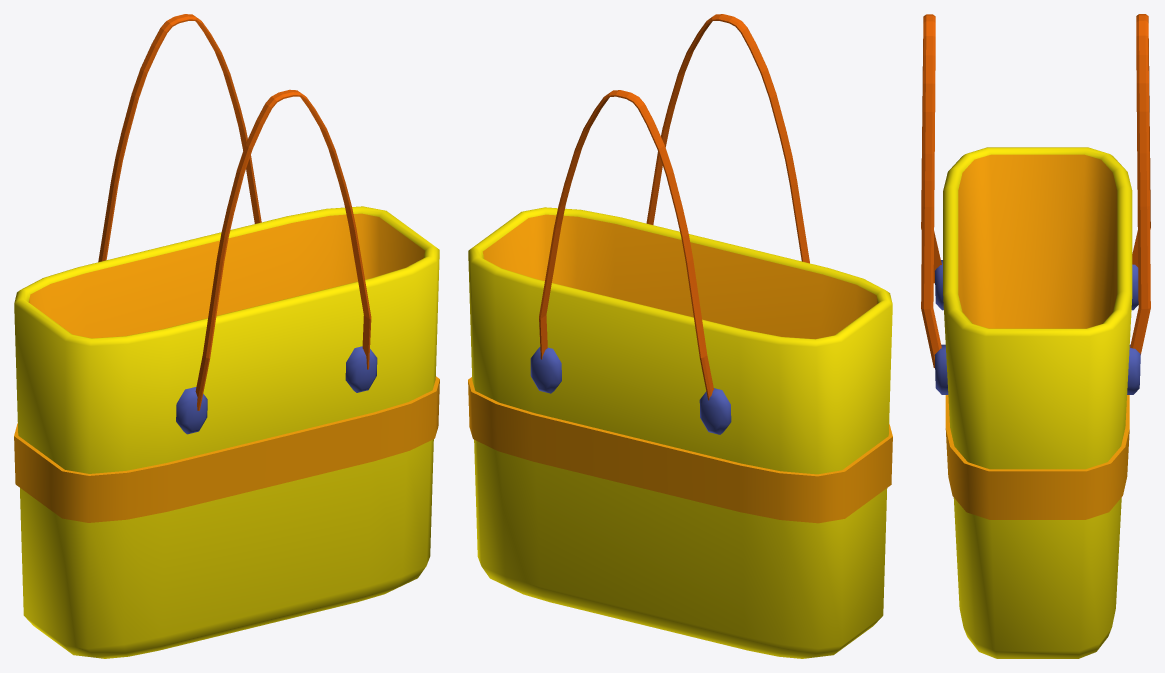
The model's file is Bag-1.fbx.
3 renders of one model, left to right at view 1: azimuth 30°, elevation 25°; view 2: azimuth 150°, elevation 25°; view 3: azimuth 270°, elevation 25°, orthographic. The views are drawn at different scales.
Parts seen in each view (by area): view 1: Bag-1; view 2: Bag-1; view 3: Bag-1.
Part boxes in pixels (bbox=[...]): Bag-1: bbox=[14, 14, 439, 658]; Bag-1: bbox=[468, 14, 892, 658]; Bag-1: bbox=[921, 14, 1150, 658].
Bounding box in the file's own units: 7.07 × 9.87 × 3.63.
